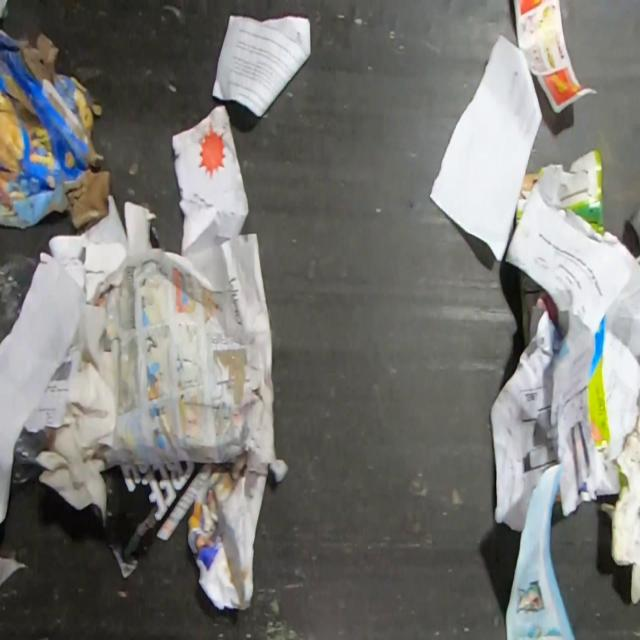cardboard: (0, 27, 112, 230), (46, 193, 230, 305), (99, 459, 234, 578), (515, 147, 619, 244), (517, 266, 557, 348)
soft_plastic: (0, 249, 38, 343), (10, 427, 51, 486)
